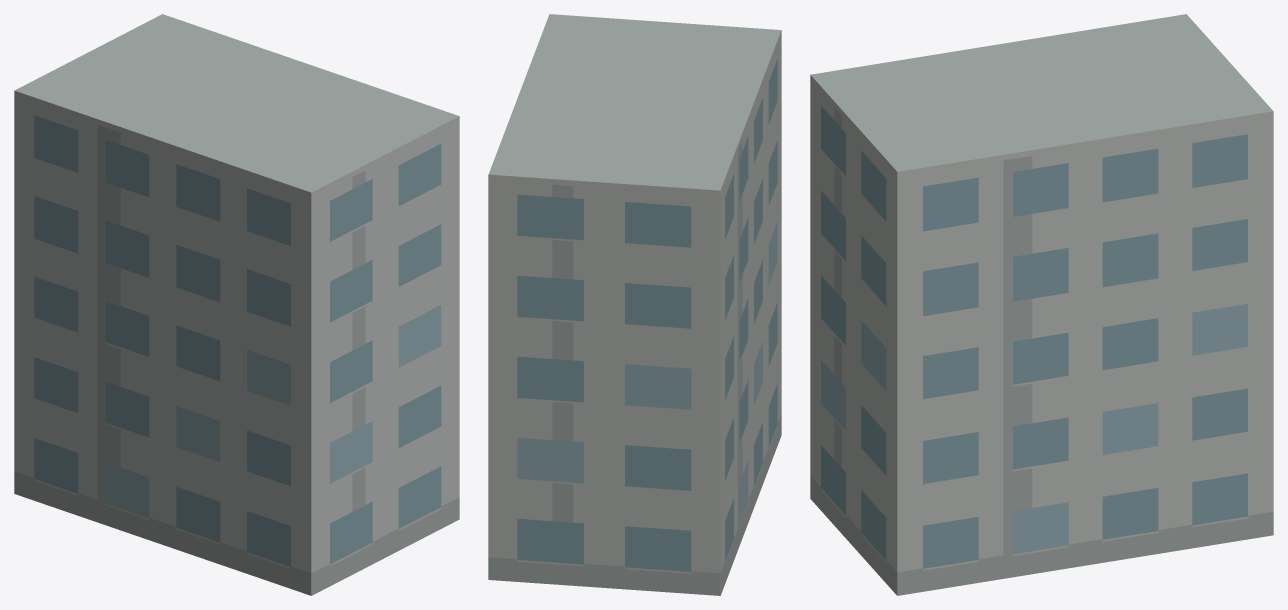
The model's file is survey-upis-32837381.glb.
3 views of the same model, side by side, from view 1: azimuth 30°, elevation 25°; view 2: azimuth 150°, elevation 25°; view 3: azimuth 270°, elevation 25° (orthographic). The views are drawn at different scales.
Parts seen in each view (by area): view 1: survey-upis-32837381.tmp; view 2: survey-upis-32837381.tmp; view 3: survey-upis-32837381.tmp.
Boxes of the visible parts, box(x1,y1,x2,y2) form: survey-upis-32837381.tmp: box(14, 14, 459, 595); survey-upis-32837381.tmp: box(488, 14, 781, 595); survey-upis-32837381.tmp: box(810, 14, 1273, 595).
Bounding box in the file's own units: 14.3 × 17.9 × 17.73.
